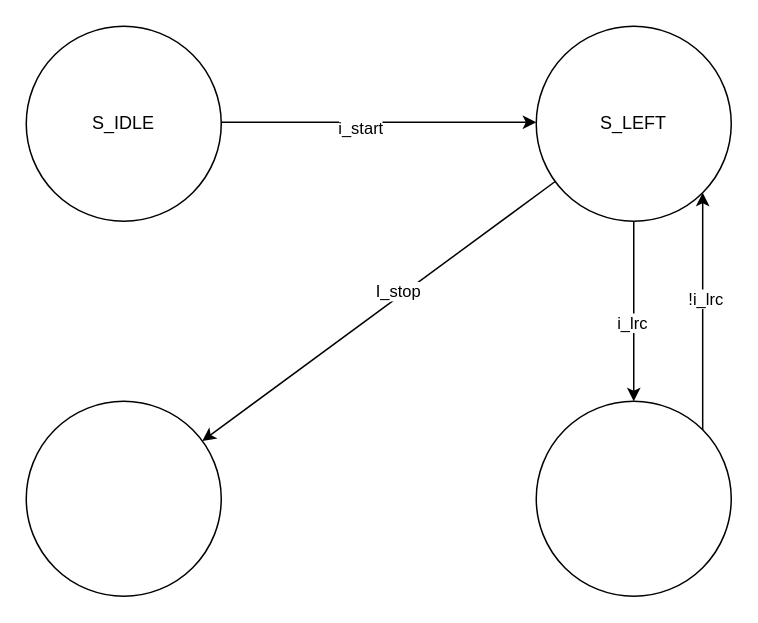
The diagram is 758 pixels wide and 623 high, and some of its shapes have lost their labels. The centre of each missing label's shape, as x and y in pixels:
"S_RIGHT" belongs at pixel 633 498.
"S_STOP" belongs at pixel 123 498.
